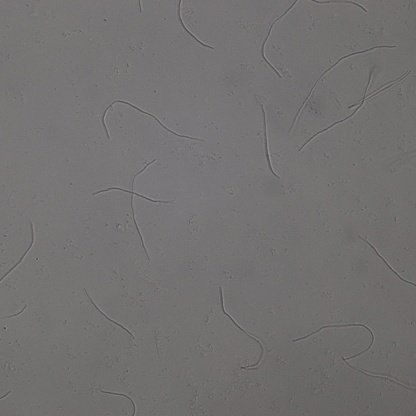Sensitive: (289, 39, 396, 131), (92, 159, 171, 260), (301, 68, 375, 149), (100, 99, 206, 145), (219, 288, 267, 370), (293, 318, 374, 361), (259, 1, 299, 80), (359, 237, 416, 289), (84, 289, 135, 339), (1, 224, 36, 282), (254, 103, 280, 178), (176, 1, 215, 50), (101, 389, 139, 416)
